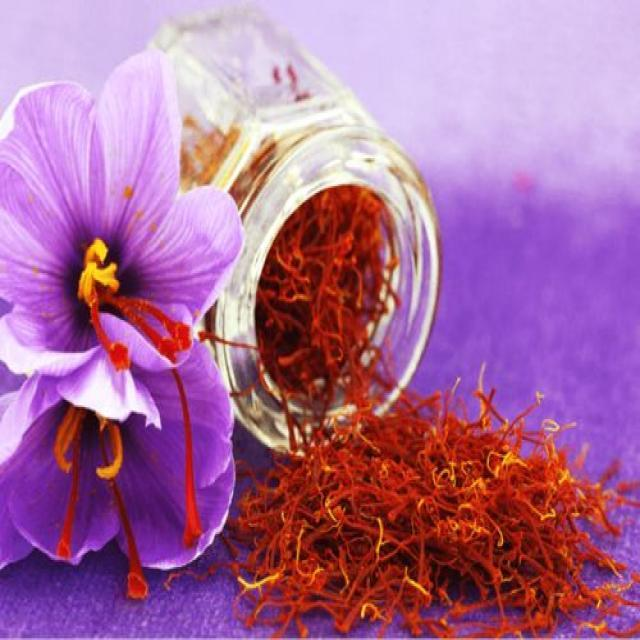Flower: (0, 54, 242, 422)
stigma: (99, 438, 151, 611), (162, 369, 207, 554), (100, 290, 187, 367), (86, 296, 136, 374), (56, 426, 83, 566), (134, 299, 198, 353)
